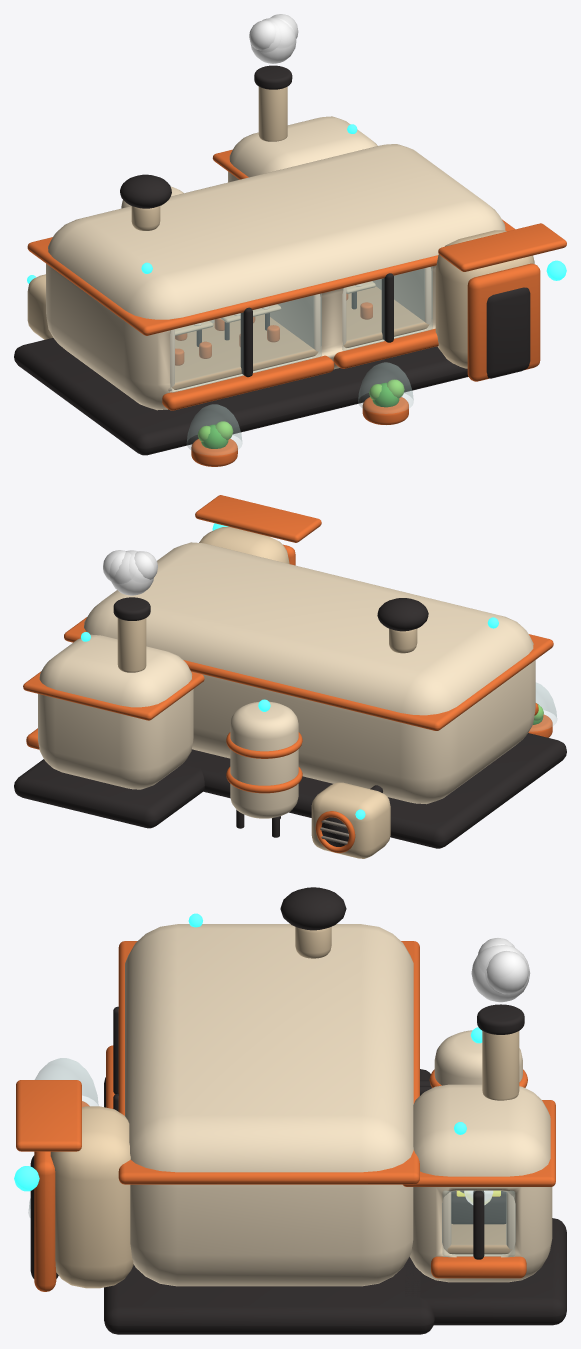
The model's file is canteen-10.glb.
3 views of the same model, one above another, from view 1: azimuth 30°, elevation 25°; view 2: azimuth 150°, elevation 25°; view 3: azimuth 270°, elevation 25° (orthographic). The views are drawn at different scales.
Parts seen in each view (by area): view 1: Cube.001, Cube, Cube.009, Cube.008, Cube.006, Cube.003, Cube.002, Sphere.010, Sphere.002, Cylinder.027, Sphere.008; view 2: Cube.001, Cube, Cube.009, Cube.006, Sphere.010, Cube.008, Sphere.008; view 3: Cube.001, Cube, Cube.009, Cube.006, Cube.008, Sphere.010, Cube.003, Cube.002, Sphere.008.
Boxes of the visible parts, x1,y1,x2,y2 form: Cube.001: (46, 116, 505, 410); Cube: (14, 65, 530, 455); Cube.009: (27, 149, 566, 466); Cube.008: (170, 266, 432, 455); Cube.006: (27, 86, 534, 368); Cube.003: (172, 286, 429, 389); Cube.002: (168, 267, 431, 391); Sphere.010: (249, 14, 298, 63); Sphere.002: (197, 379, 404, 441); Cylinder.027: (201, 382, 399, 448); Sphere.008: (27, 124, 566, 283); Cube.001: (38, 542, 535, 818); Cube: (14, 597, 566, 848); Cube.009: (23, 495, 553, 852); Cube.006: (117, 527, 417, 858); Sphere.010: (103, 550, 157, 595); Cube.008: (530, 682, 557, 731); Sphere.008: (81, 523, 498, 819); Cube.001: (125, 924, 552, 1286); Cube: (30, 887, 566, 1334); Cube.009: (16, 941, 555, 1291); Cube.006: (50, 927, 519, 1288); Cube.008: (28, 1058, 515, 1256); Sphere.010: (471, 938, 530, 1002); Cube.003: (446, 1224, 511, 1254); Cube.002: (442, 1192, 515, 1251); Sphere.008: (14, 913, 482, 1191).
Bounding box in the file's own units: 1.6 × 0.974 × 1.51.
